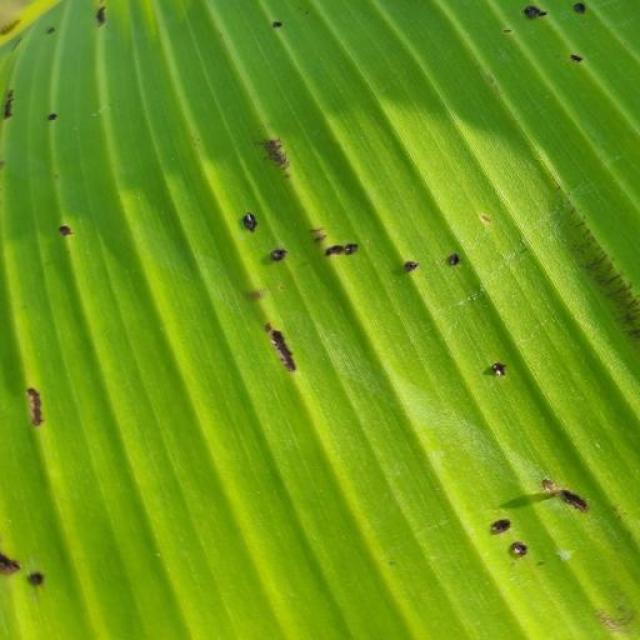Black_rot: (225, 134, 487, 384), (492, 475, 598, 575), (509, 0, 612, 73), (1, 520, 72, 618), (14, 3, 124, 58), (0, 72, 78, 140), (17, 353, 61, 452), (36, 202, 100, 264), (261, 11, 309, 67)
